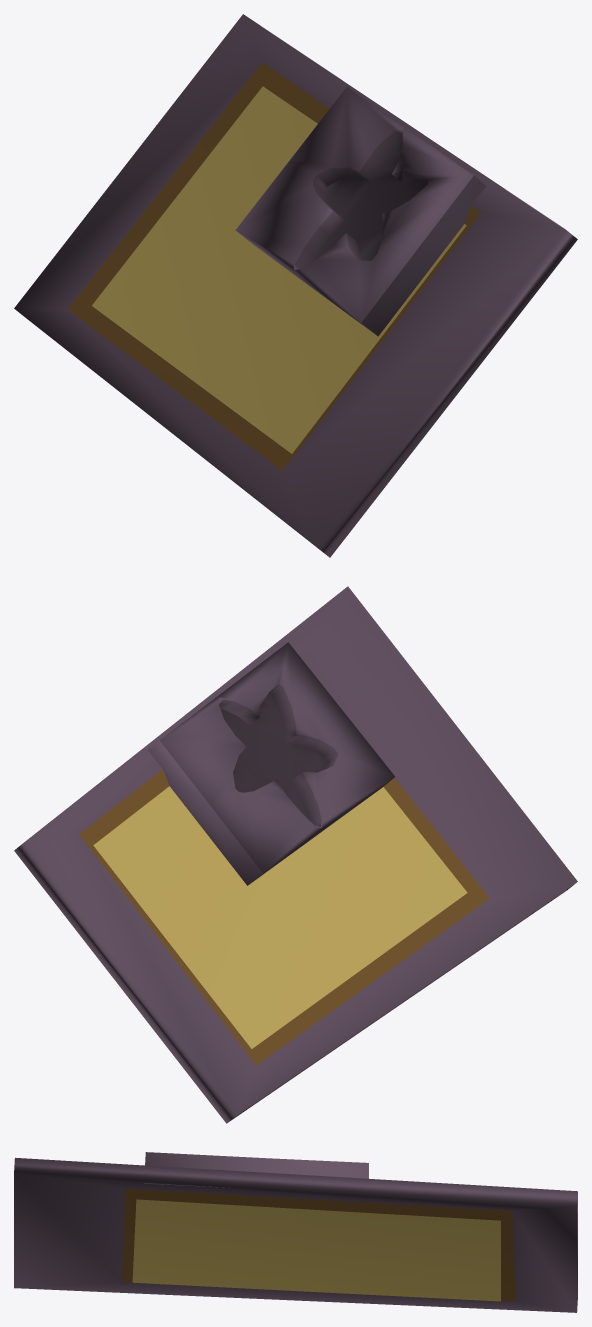
Rendered from LighthouseUpperDoorLightOff.fbx.
3 views of the same model, one above another, from view 1: azimuth 30°, elevation 25°; view 2: azimuth 150°, elevation 25°; view 3: azimuth 270°, elevation 25° (orthographic). The views are drawn at different scales.
Visible parts, largest first — view 1: LighthouseUpperDoorLightOff; view 2: LighthouseUpperDoorLightOff; view 3: LighthouseUpperDoorLightOff.
Boxes of the visible parts, x1,y1,x2,y2 form: LighthouseUpperDoorLightOff: [14, 14, 577, 557]; LighthouseUpperDoorLightOff: [14, 586, 577, 1123]; LighthouseUpperDoorLightOff: [14, 1152, 577, 1312].
Size of the model in its own units: 74.25 by 73.98 by 158.
